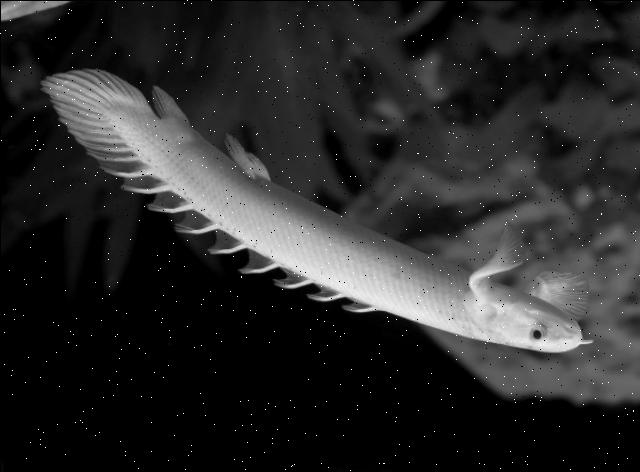Mulut: (549, 304, 595, 356)
Sirip Anal: (145, 74, 197, 136)
Sirip Dada: (458, 220, 606, 330)
Sirip Ekor: (32, 56, 150, 192)
Sirip Perut: (218, 128, 284, 200)
Sirip Punggung: (128, 162, 376, 330)
